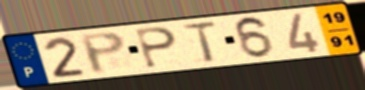2: (42, 35, 89, 79)
4: (286, 12, 322, 54)
6: (234, 15, 279, 62)
P: (77, 30, 129, 75), (133, 26, 179, 70)
T: (180, 20, 221, 65)
